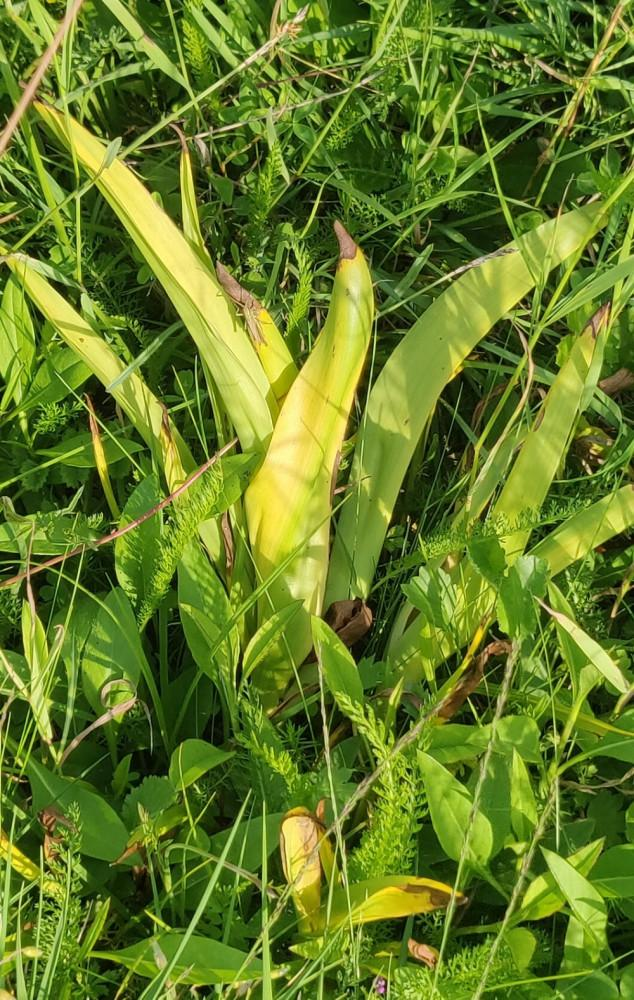Colchicum autumnale L: (17, 121, 619, 868)
